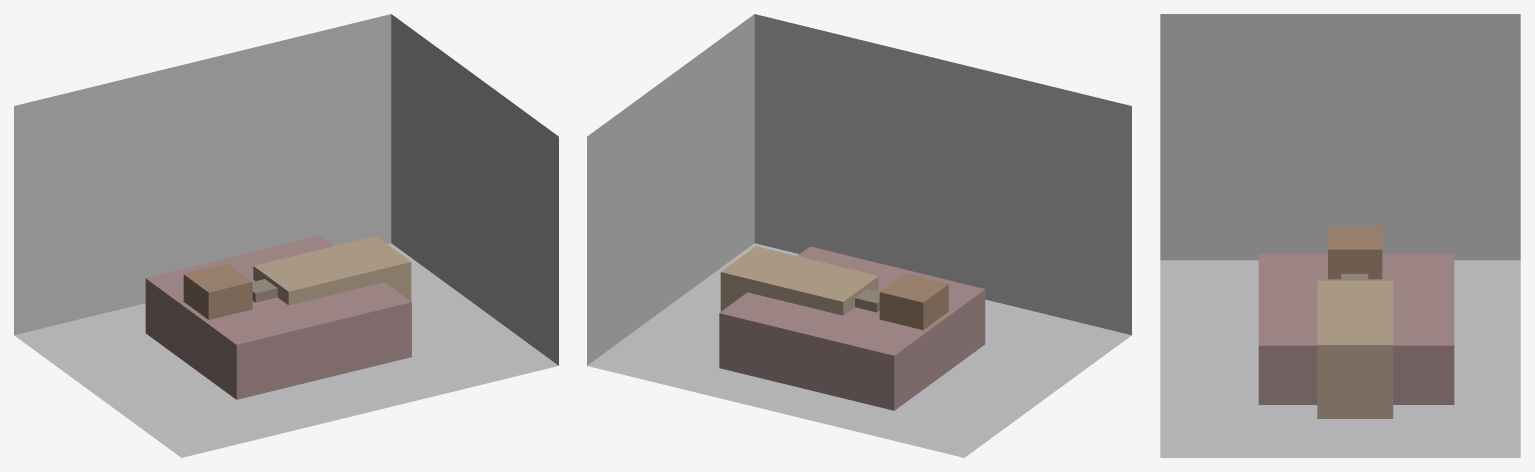
The model's file is current_layout.glb.
3 renders of one model, left to right at view 1: azimuth 30°, elevation 25°; view 2: azimuth 150°, elevation 25°; view 3: azimuth 270°, elevation 25°, orthographic. The views are drawn at different scales.
Parts seen in each view (by area): view 1: room, bed, desk, chair; view 2: room, bed, desk, chair; view 3: room, bed, desk, chair.
Boxes of the visible parts, x1,y1,x2,y2 form: room: [14, 14, 558, 457]; bed: [145, 235, 411, 399]; desk: [253, 236, 411, 305]; chair: [183, 263, 252, 319]; room: [587, 14, 1131, 457]; bed: [719, 246, 985, 410]; desk: [720, 246, 878, 315]; chair: [879, 273, 948, 330]; room: [1160, 14, 1520, 457]; bed: [1258, 254, 1454, 404]; desk: [1317, 280, 1393, 418]; chair: [1328, 226, 1382, 279].
Bounding box in the file's own units: 4.31 × 2.5 × 3.31.
